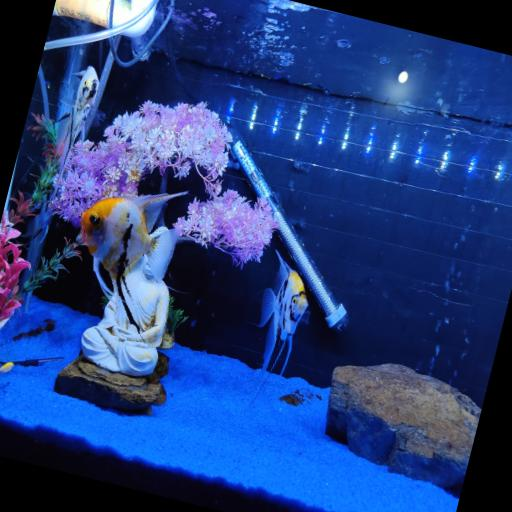Fish: (80, 192, 185, 294), (257, 251, 308, 383), (51, 66, 98, 200), (0, 357, 63, 373)
